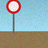sign: (6, 0, 21, 35)
